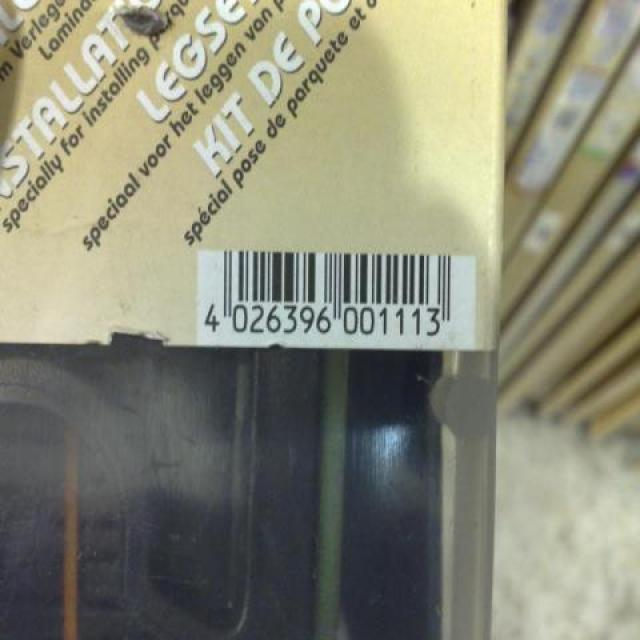Barcode: (196, 248, 477, 347)
